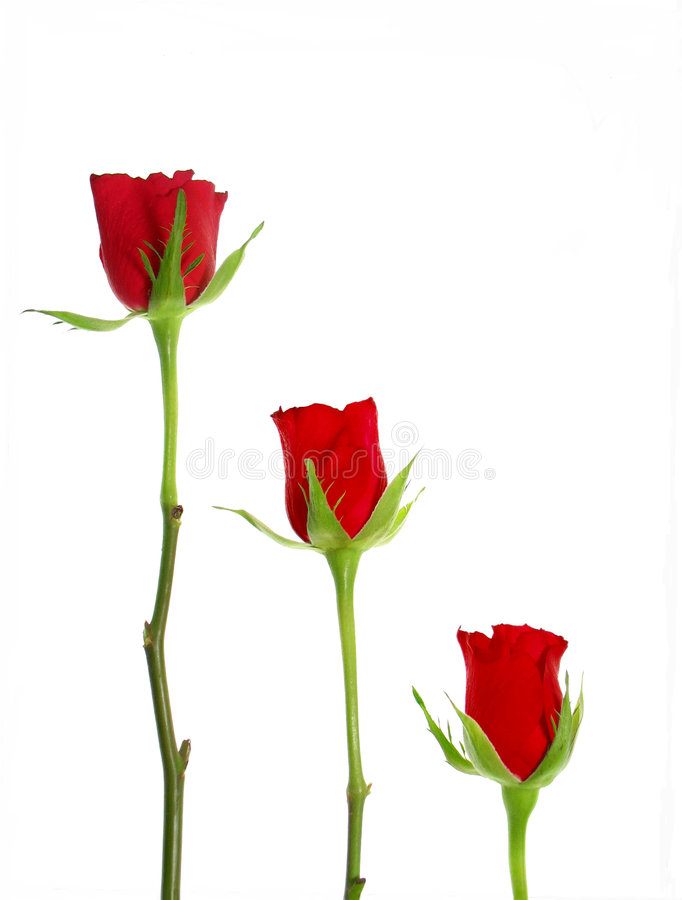RedRose: (61, 127, 332, 380), (239, 328, 446, 615), (405, 569, 626, 829)
